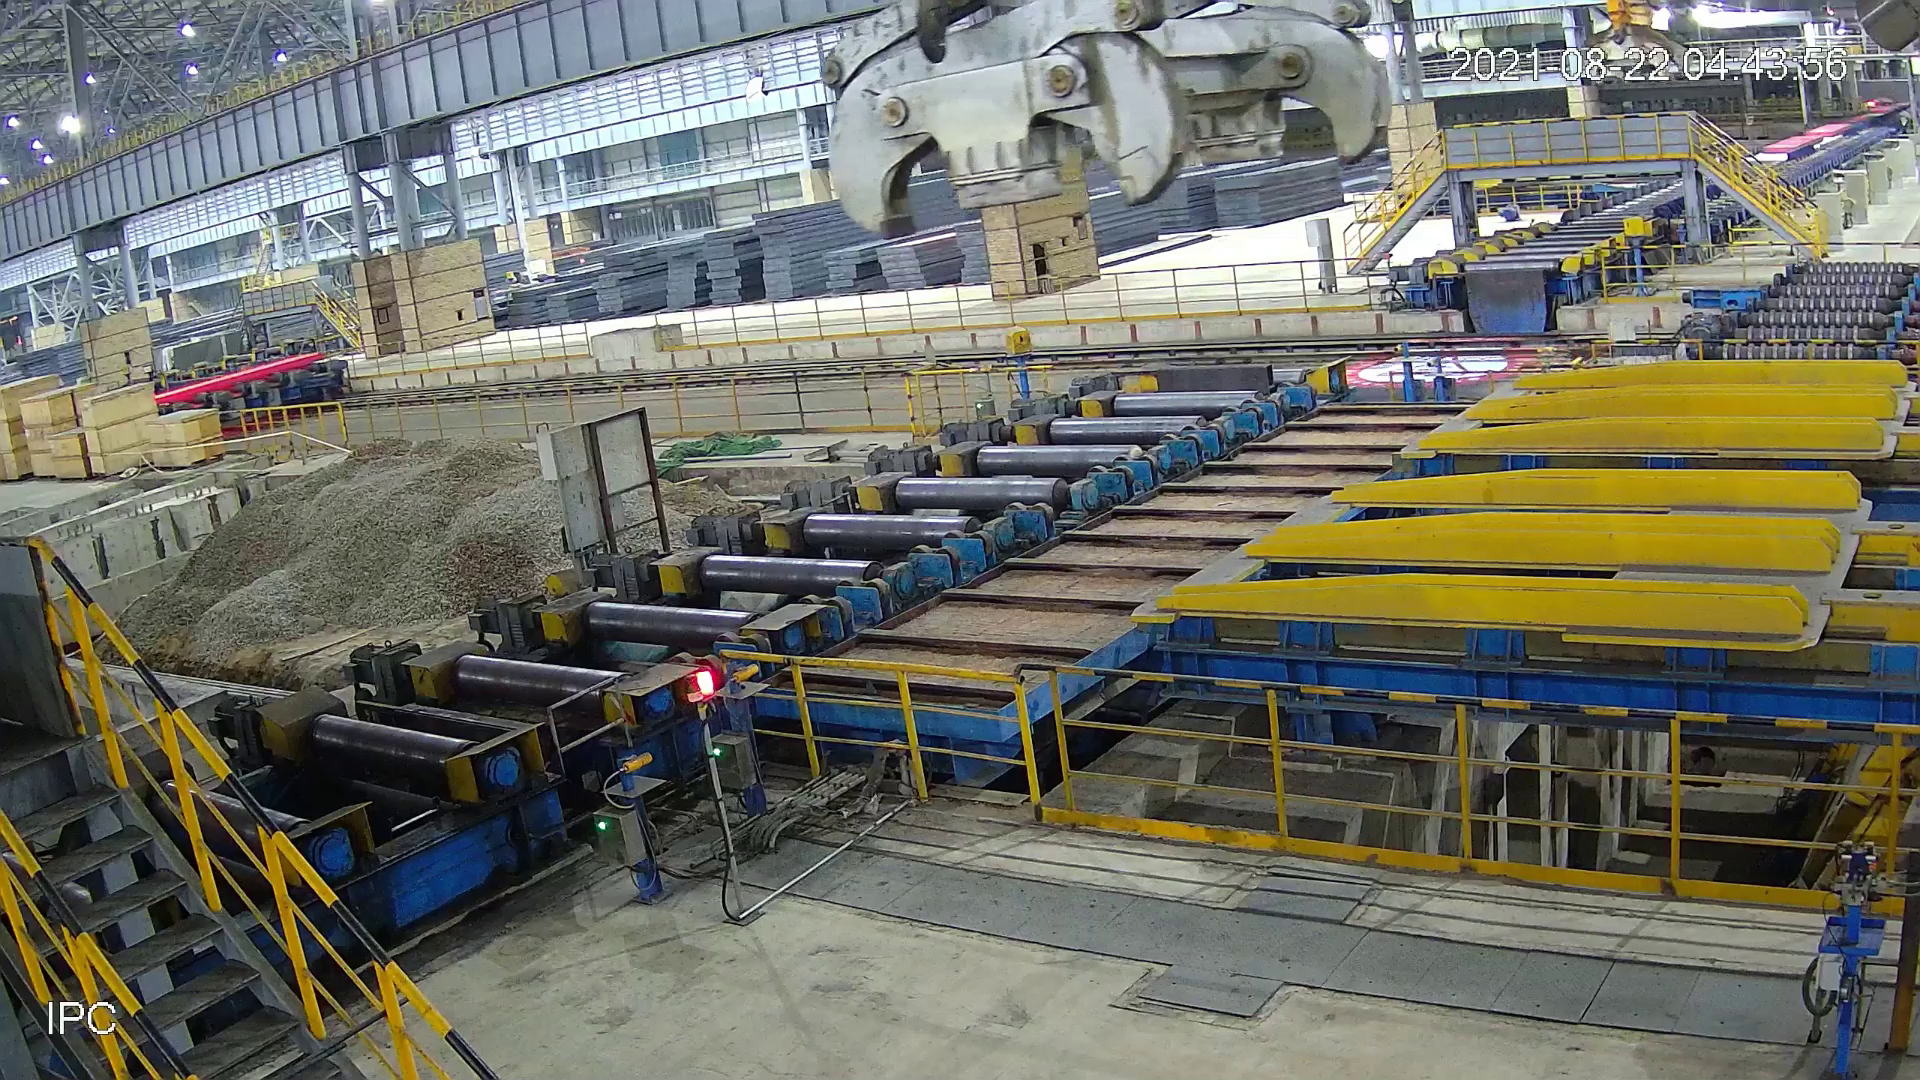crane: (803, 1, 1403, 253), (1578, 1, 1692, 86)
